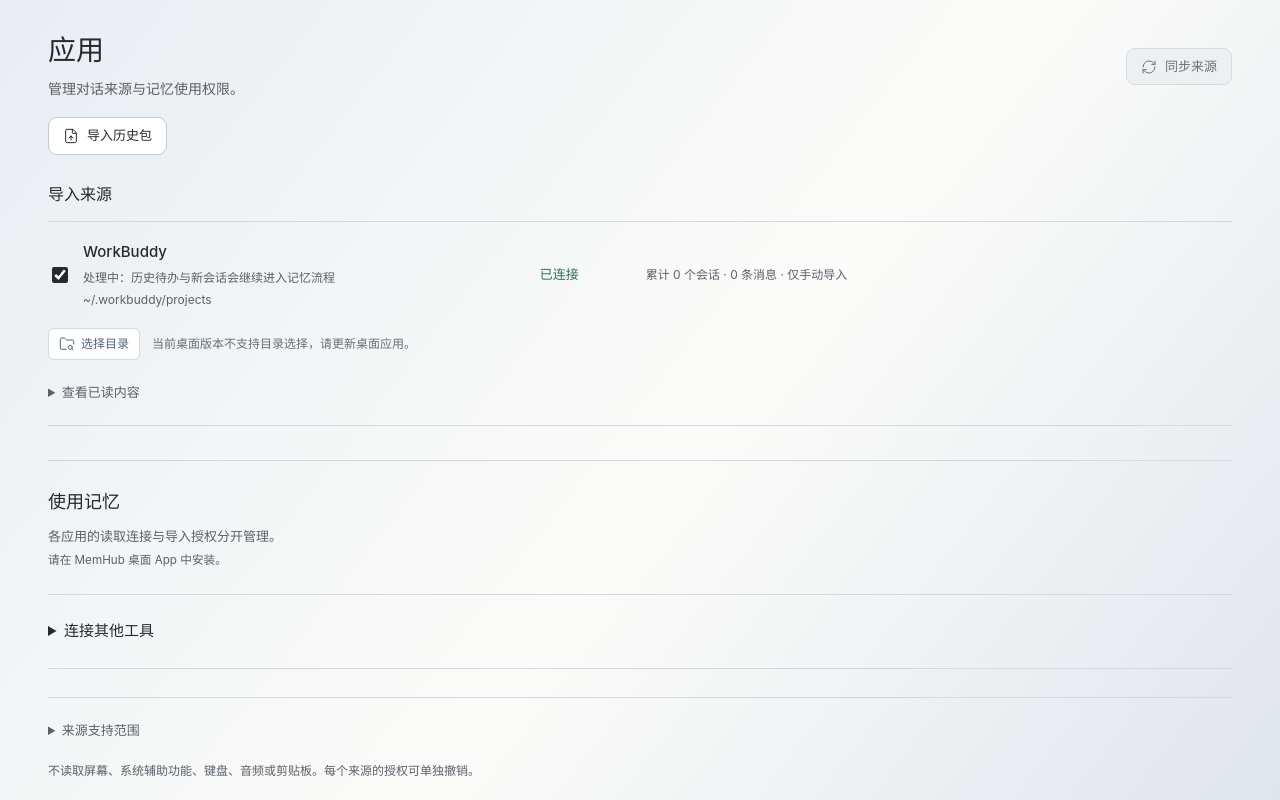
SourcesView › 一次超时不写成「失败」：结果未确认，且不提示重试
Click the checkbox labelled "WorkBuddy 处理中：历史待办与新会话会继续进入记忆流程 ~/.workbuddy/projects" at (60, 275), box [52,267,68,283]
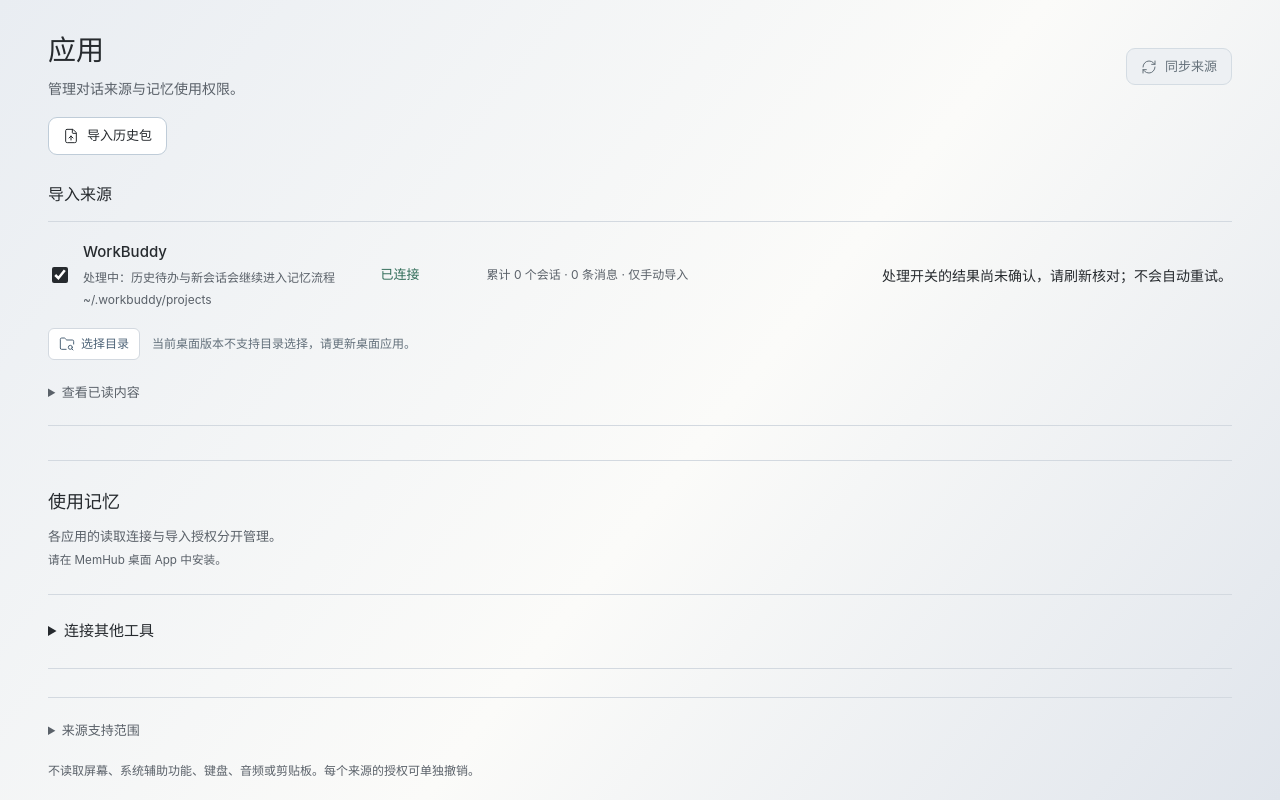
Check: the text "处理开关的结果尚未确认，请刷新核对；不会自动重试。" is shown, box [882,264,1232,287]
